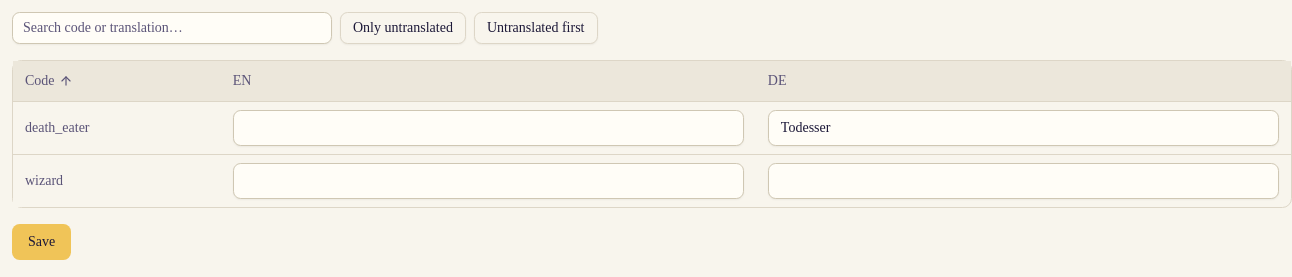
Test: SubTypeTranslationsForm › filters rows by the search query (code or translation text)
In the field with placeholder "Search code or translation…": (172, 28) left=12, top=12, right=332, bottom=44, type "wiz"
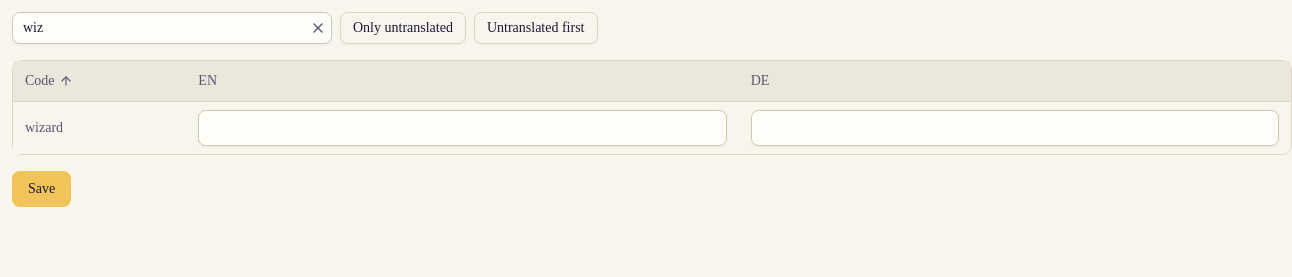
Expected: the text "wizard" is shown, left=13, top=101, right=186, bottom=154
Result: the text "death_eater" is gone
// search also matches translation text
Replace the text in the field with placeholder "Search code or translation…" with "todes": (172, 28) left=12, top=12, right=332, bottom=44
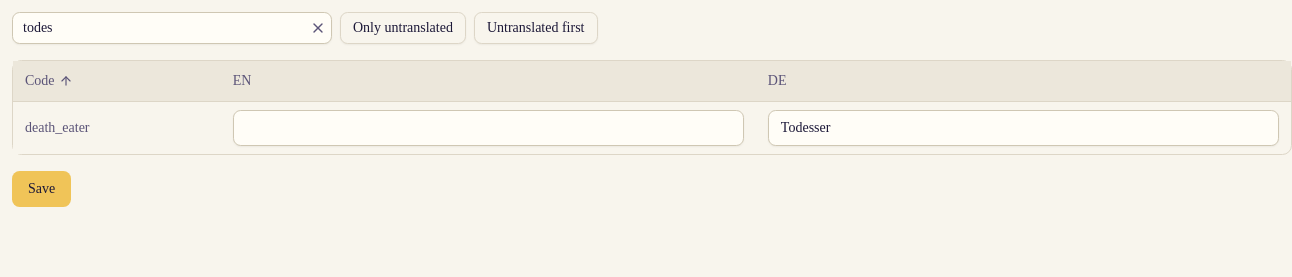
Result: the text "death_eater" is shown at left=13, top=101, right=221, bottom=154
Result: the text "wizard" is gone
